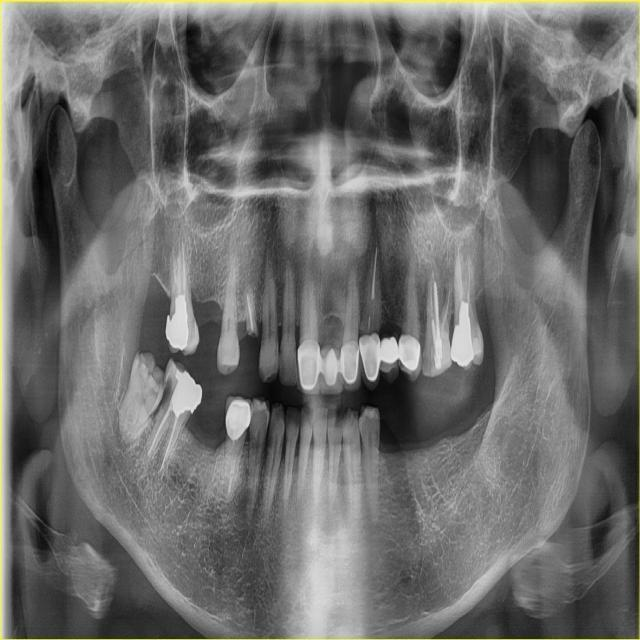Caries: (161, 373, 173, 407)
Crown: (296, 341, 322, 394), (359, 331, 380, 390), (397, 333, 422, 382), (319, 345, 343, 395), (226, 396, 252, 440), (340, 340, 361, 392), (379, 334, 399, 387)
Filling: (171, 367, 202, 416), (450, 301, 473, 366), (166, 291, 188, 351)
Missing teeth: (379, 390, 474, 453), (187, 394, 229, 452), (190, 295, 223, 356)
Periapical lesion: (107, 413, 127, 455)
Root Canal Treatment: (148, 399, 172, 454), (157, 415, 179, 474), (369, 246, 377, 333), (228, 440, 237, 497), (441, 284, 450, 337), (458, 247, 463, 299), (457, 256, 462, 301), (182, 239, 186, 295), (466, 258, 470, 305), (178, 243, 181, 294), (173, 244, 177, 282), (431, 283, 433, 317)
Root Piece: (242, 280, 258, 336)
impacted tooth: (118, 354, 167, 446)
